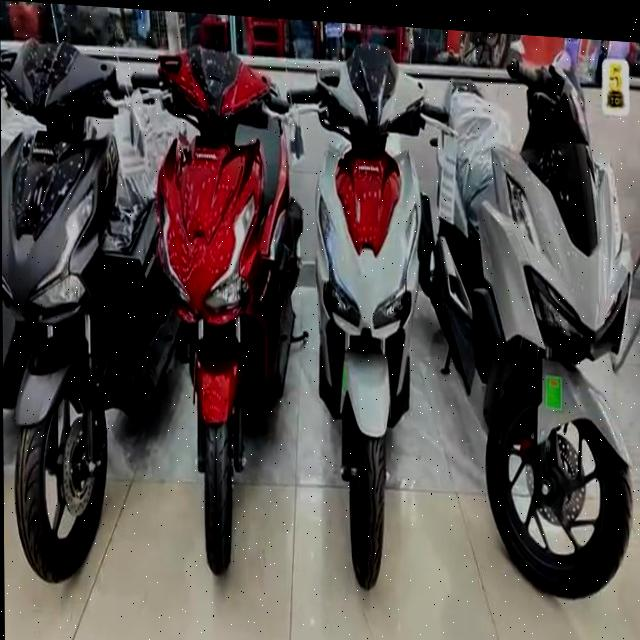motorcycle: (432, 35, 640, 640), (135, 19, 304, 616), (0, 5, 155, 630), (294, 37, 438, 623)
